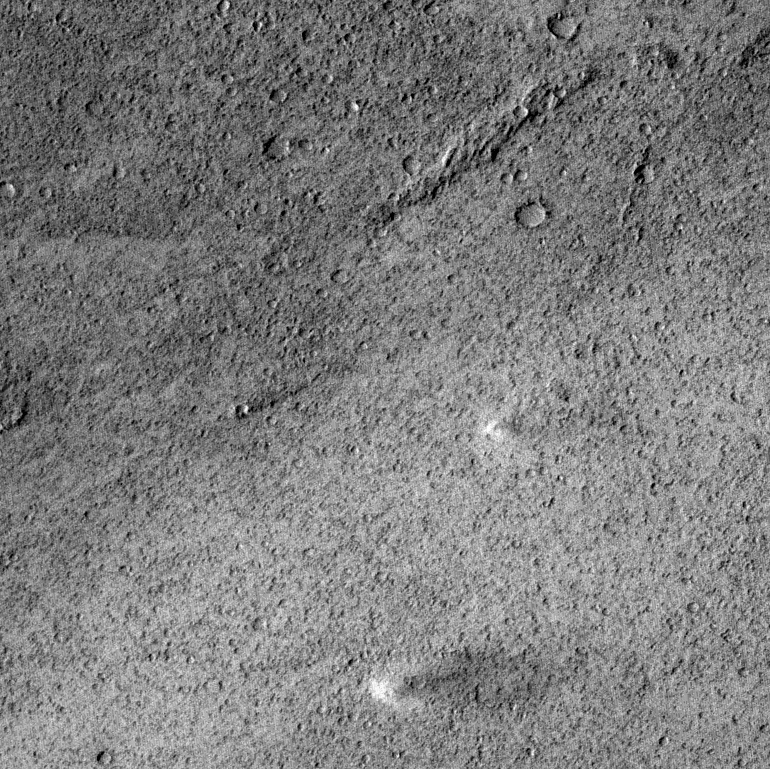dust_devil: (364, 645, 566, 717), (482, 403, 658, 448)
